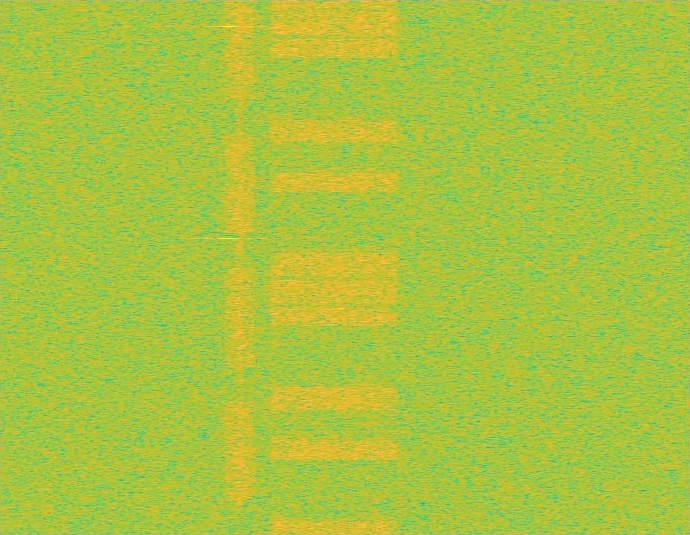5G: (223, 0, 257, 534)
DSSS: (236, 0, 244, 534)
LTE: (265, 0, 403, 534)
Radar: (222, 0, 236, 534)
